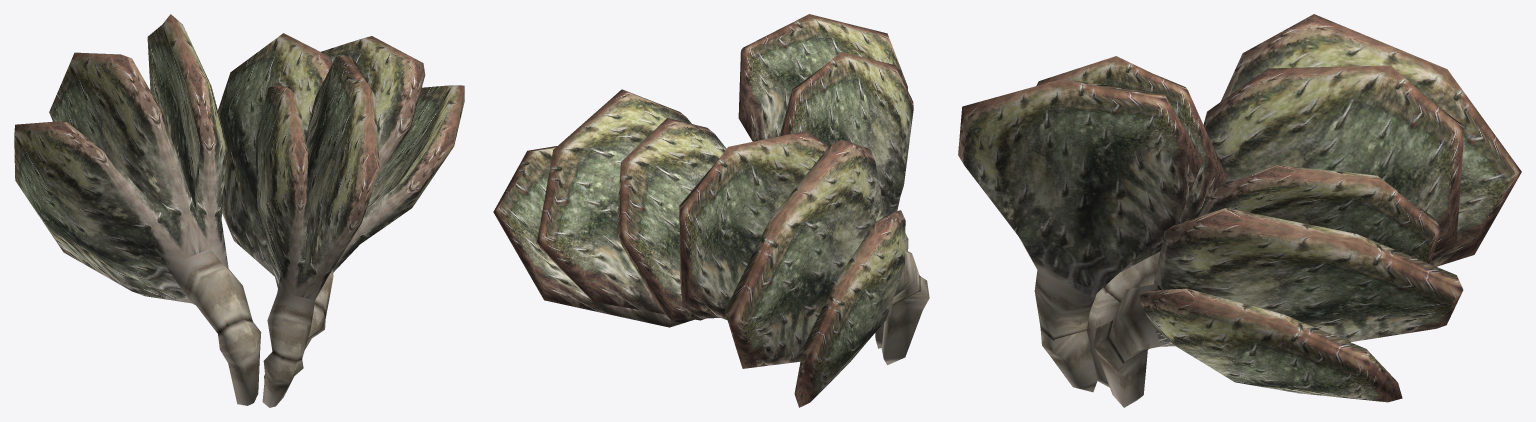
The model's file is succ_lok_hairmay_cactus_l0.fbx.
3 renders of one model, left to right at view 1: azimuth 30°, elevation 25°; view 2: azimuth 150°, elevation 25°; view 3: azimuth 270°, elevation 25°, orthographic. The views are drawn at different scales.
Visible parts, largest first — view 1: mesh_node; view 2: mesh_node; view 3: mesh_node.
Boxes of the visible parts, <box> form: mesh_node: <box>14,14,464,407</box>; mesh_node: <box>493,14,929,407</box>; mesh_node: <box>958,14,1521,407</box>.
Size of the model in its own units: 2.26 by 1.72 by 2.39.
1 material, 1 textured.
